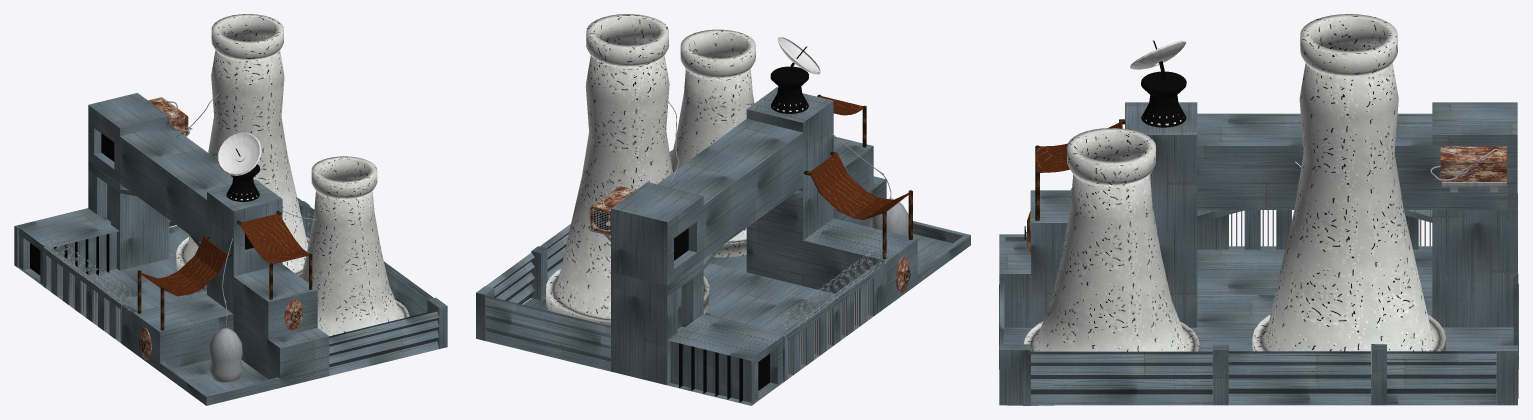
Rendered from Company_building.glb.
The picture shows the model from 3 angles, left to right: view 1: azimuth 30°, elevation 25°; view 2: azimuth 150°, elevation 25°; view 3: azimuth 270°, elevation 25°; orthographic projection. The views are drawn at different scales.
Parts seen in each view (by area): view 1: Cube, Circle, Circle.001, Plane.001, Plane.002, Sphere, Circle.003, NurbsPath.056, Spiral, Cube.001, Circle.002, Cube.004 (+1 smaller); view 2: Cube, Circle.001, Circle, Plane.001, NurbsPath.056, Circle.002, Spiral, Cube.001, Sphere, Circle.003, Cube.004; view 3: Cube, Circle.001, Circle, Cube.004, Circle.002, Plane.002, Circle.003, NurbsPath.056, Plane.
Boxes of the visible parts, x1=… form: Cube: x1=14, y1=93, x2=447, y2=405; Circle: x1=301, y1=156, x2=409, y2=336; Circle.001: x1=176, y1=14, x2=309, y2=290; Plane.001: x1=137, y1=237, x2=227, y2=296; Plane.002: x1=240, y1=213, x2=309, y2=264; Sphere: x1=209, y1=328, x2=242, y2=382; Circle.003: x1=217, y1=132, x2=261, y2=175; NurbsPath.056: x1=47, y1=256, x2=121, y2=342; Spiral: x1=48, y1=237, x2=137, y2=311; Cube.001: x1=45, y1=248, x2=125, y2=309; Circle.002: x1=226, y1=164, x2=259, y2=201; Cube.004: x1=148, y1=97, x2=188, y2=135; Cube: x1=476, y1=87, x2=970, y2=405; Circle.001: x1=546, y1=14, x2=709, y2=335; Circle: x1=671, y1=29, x2=755, y2=257; Plane.001: x1=810, y1=153, x2=910, y2=219; NurbsPath.056: x1=787, y1=279, x2=872, y2=378; Circle.002: x1=770, y1=66, x2=808, y2=113; Spiral: x1=782, y1=248, x2=888, y2=329; Cube.001: x1=782, y1=270, x2=874, y2=340; Sphere: x1=871, y1=198, x2=908, y2=236; Circle.003: x1=777, y1=37, x2=820, y2=74; Cube.004: x1=590, y1=186, x2=635, y2=234; Cube: x1=999, y1=102, x2=1518, y2=405; Circle.001: x1=1252, y1=14, x2=1445, y2=394; Circle: x1=1024, y1=128, x2=1199, y2=351; Cube.004: x1=1440, y1=146, x2=1506, y2=184; Circle.002: x1=1141, y1=71, x2=1186, y2=127; Plane.002: x1=1036, y1=123, x2=1122, y2=172; Circle.003: x1=1130, y1=39, x2=1185, y2=79; NurbsPath.056: x1=1231, y1=210, x2=1430, y2=247; Plane: x1=1441, y1=182, x2=1506, y2=192.
Bounding box in the file's own units: 39.05 × 37.64 × 52.89.
9 materials, 6 textured.
